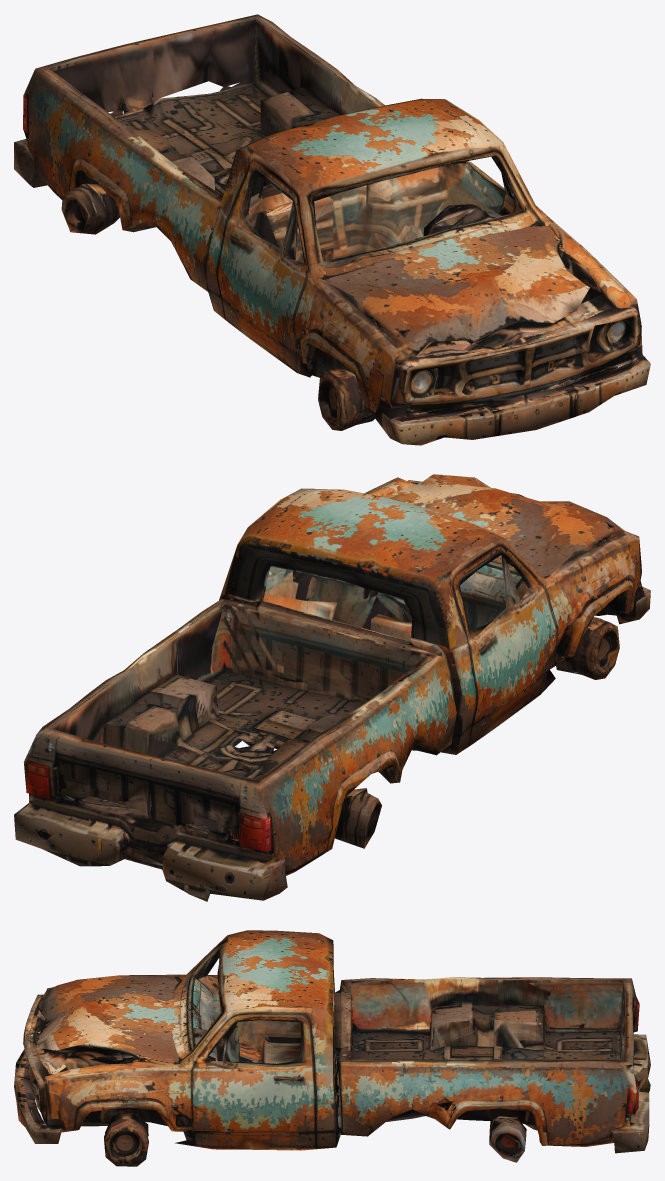
The model's file is EX_Env_TruckWreck.fbx.
The picture shows the model from 3 angles, top to bottom: view 1: azimuth 30°, elevation 25°; view 2: azimuth 150°, elevation 25°; view 3: azimuth 270°, elevation 25°; orthographic projection. The views are drawn at different scales.
Visible parts, largest first — view 1: texture_mapping; view 2: texture_mapping; view 3: texture_mapping.
Boxes of the visible parts, left/top/right/bottom form: texture_mapping: left=14, top=14, right=650, bottom=445; texture_mapping: left=14, top=474, right=650, bottom=901; texture_mapping: left=14, top=930, right=650, bottom=1166.
Size of the model in its own units: 0.4471 by 1 by 0.2675.
Materials: 1 (1 with a texture image).
